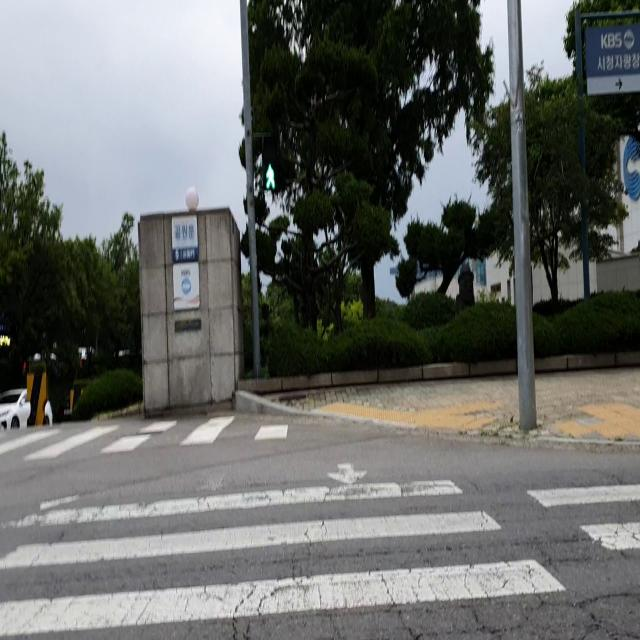횡단보도: (0, 459, 640, 640), (0, 415, 289, 458)
